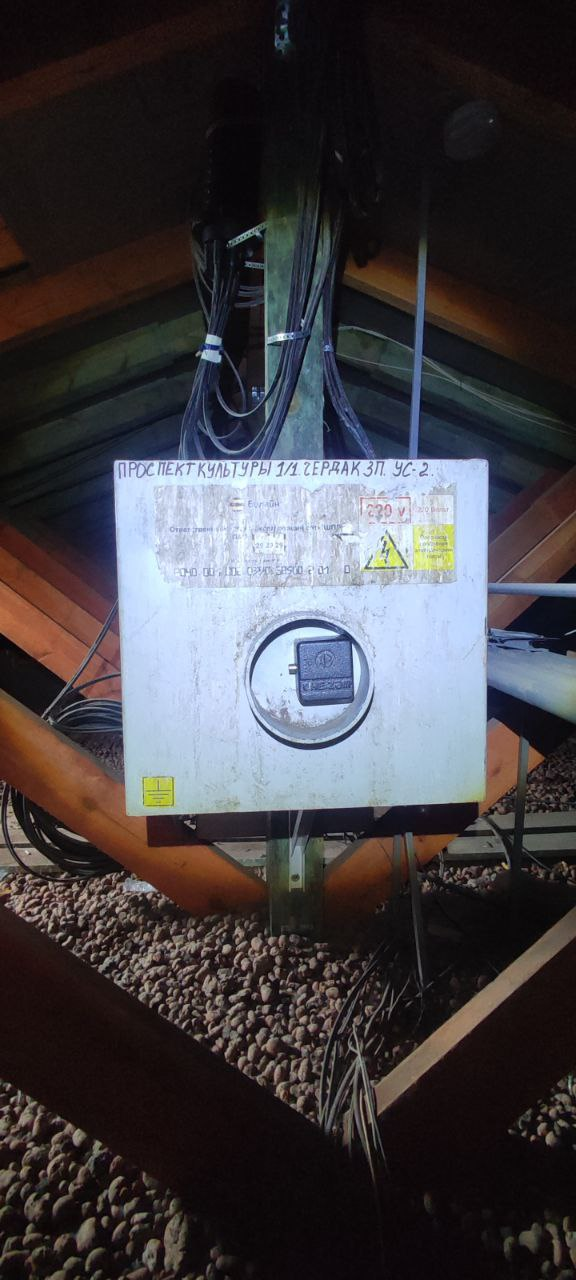shta-9: (110, 453, 492, 818)
